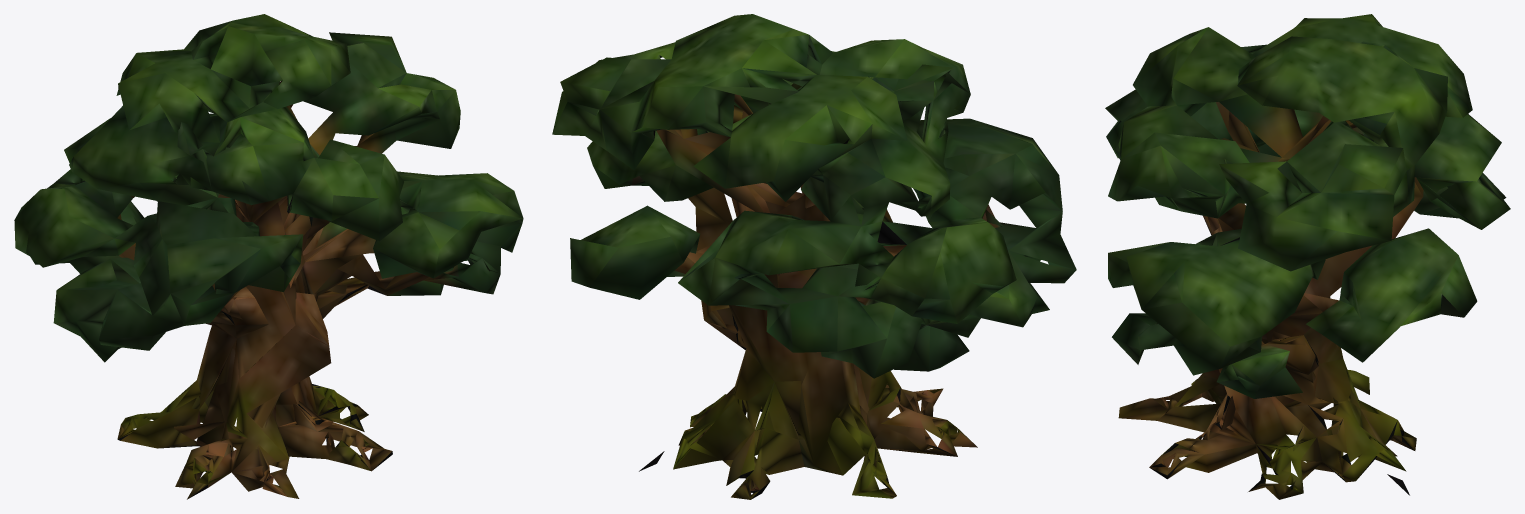
File: tree_oak.glb
3 views of the same model, side by side, from view 1: azimuth 30°, elevation 25°; view 2: azimuth 150°, elevation 25°; view 3: azimuth 270°, elevation 25° (orthographic). The views are drawn at different scales.
Parts seen in each view (by area): view 1: tree_oak; view 2: tree_oak; view 3: tree_oak.
Part boxes in pixels (x1,y1,x2,y2): tree_oak: (14,14,523,499); tree_oak: (552,14,1076,499); tree_oak: (1105,14,1510,499).
Bounding box in the file's own units: 9.2 × 7.92 × 6.95.
Materials: 1 (1 with a texture image).
